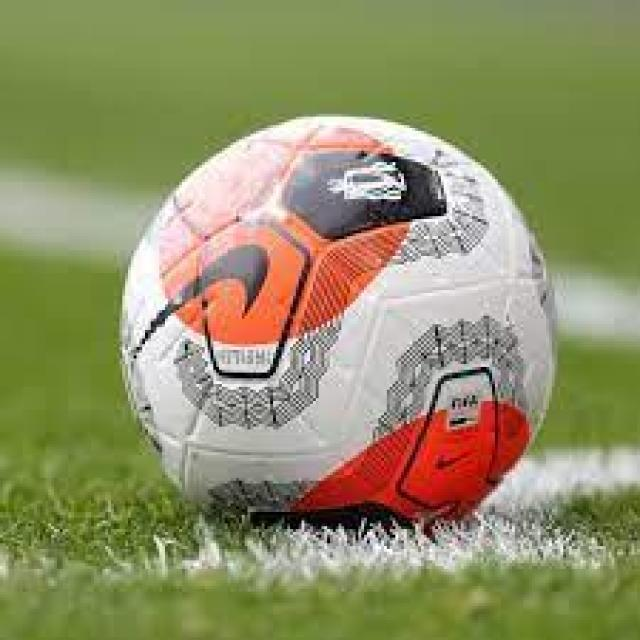Soccer Ball: (122, 111, 558, 535)
